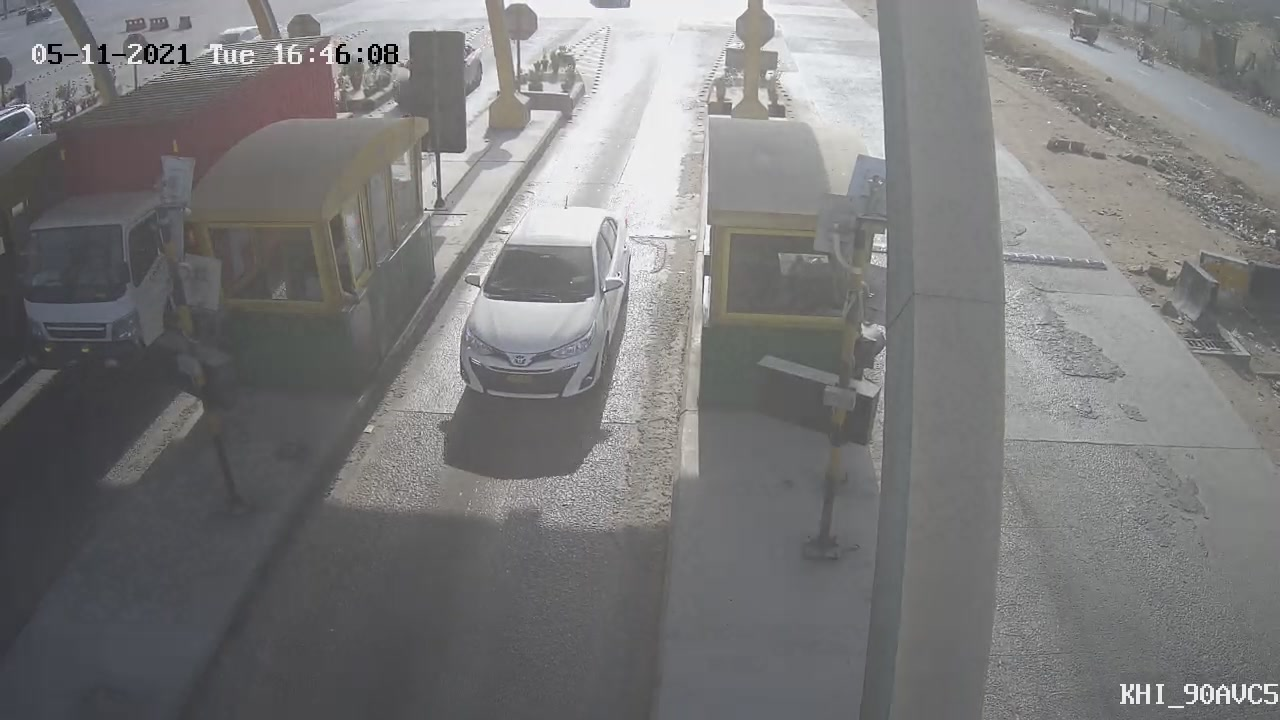F1: (435, 191, 657, 420)
